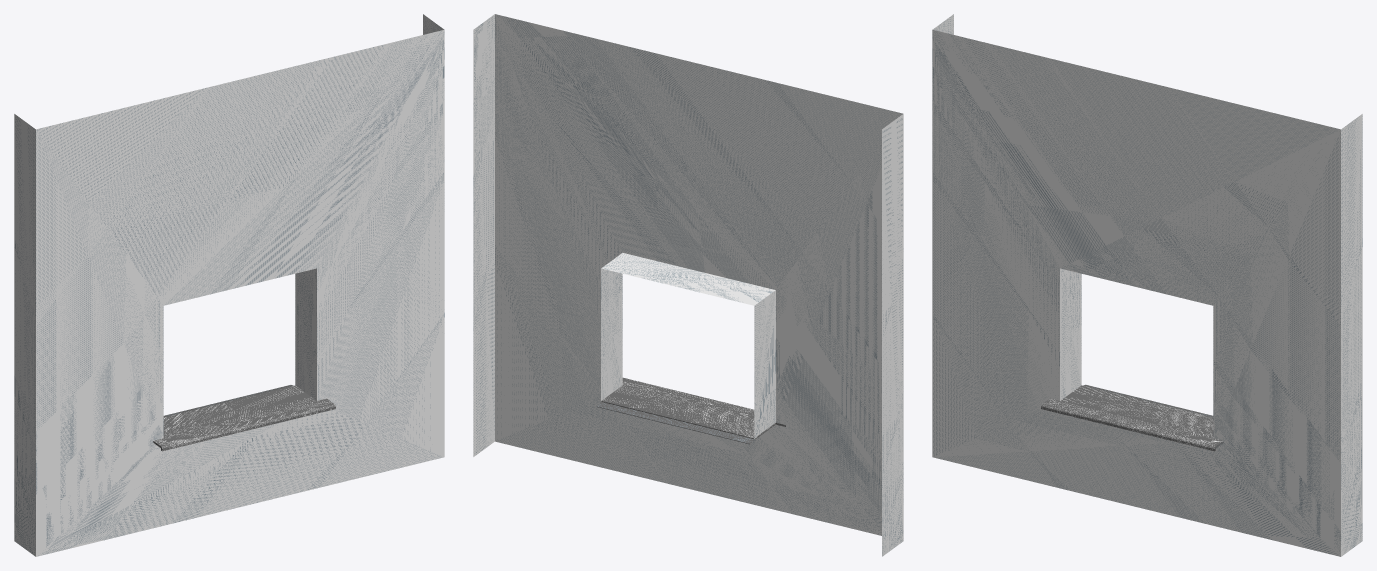
File: WindowBlock_os_[400x400]_150x124x[080].dae
The picture shows the model from 3 angles, left to right: view 1: azimuth 30°, elevation 25°; view 2: azimuth 150°, elevation 25°; view 3: azimuth 330°, elevation 25°; orthographic projection.
Parts seen in each view (by area): view 1: group_2 (×2), group_1; view 2: group_2 (×2), group_1 (×2); view 3: group_2 (×2), group_1.
Part boxes in pixels (bbox=[...]): group_2 (×2): bbox=[14, 14, 444, 556]; group_1: bbox=[153, 385, 335, 451]; group_2 (×2): bbox=[473, 14, 903, 556]; group_1 (×2): bbox=[597, 377, 785, 444]; group_2 (×2): bbox=[932, 14, 1362, 556]; group_1: bbox=[1041, 385, 1222, 451].
Bounding box in the file's own units: 157 × 23.03 × 157.
